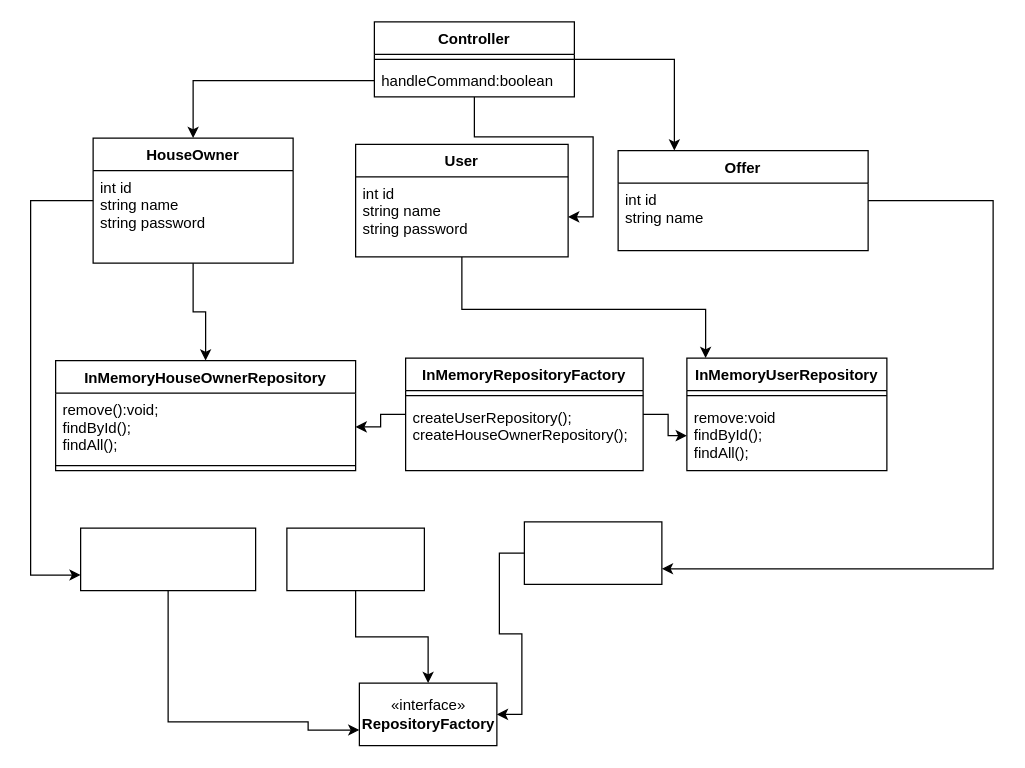
Image size: 1025x768. Some labels were removed from this diagram. The shapes that lost their labels are listed below. From the top down, each one's centre as x and y in pixels, then its label:
At pixel 167 559: "«interface» HouseOwnerRepository".
At pixel 355 559: "«interface» UserRepository".
At pixel 592 552: "«interface» OfferRepository".
